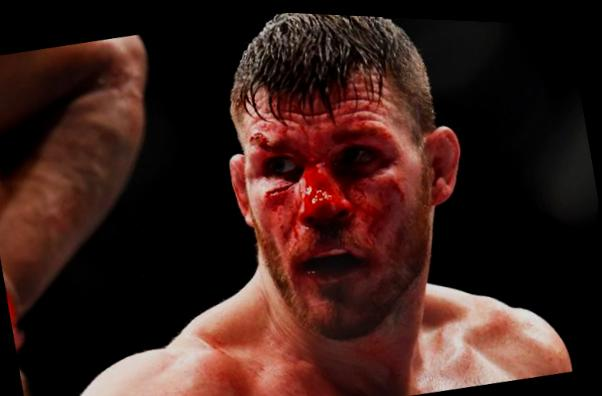Fire: (263, 141, 385, 233), (331, 96, 384, 143), (242, 105, 290, 147), (389, 174, 402, 194)
